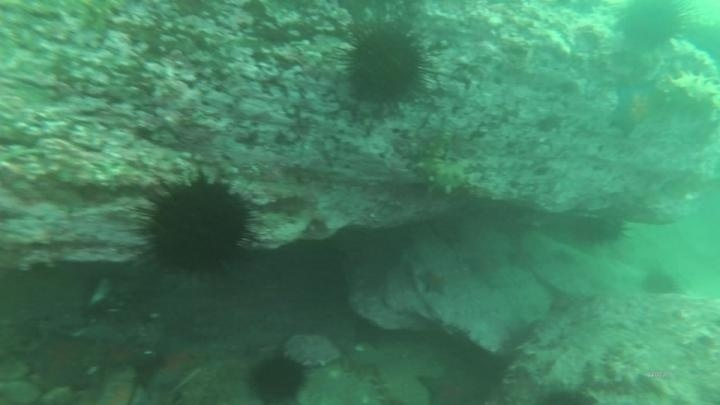echinus: (134, 169, 260, 280), (339, 19, 433, 111), (615, 1, 690, 54), (245, 350, 311, 404), (567, 206, 629, 250), (639, 268, 681, 299)
holothurian: (412, 134, 471, 199), (666, 68, 720, 110)
scallop: (282, 331, 343, 371)
starfish: (22, 328, 100, 393), (147, 334, 210, 392), (607, 79, 667, 138), (414, 365, 483, 405), (99, 336, 147, 374), (417, 267, 450, 298)
